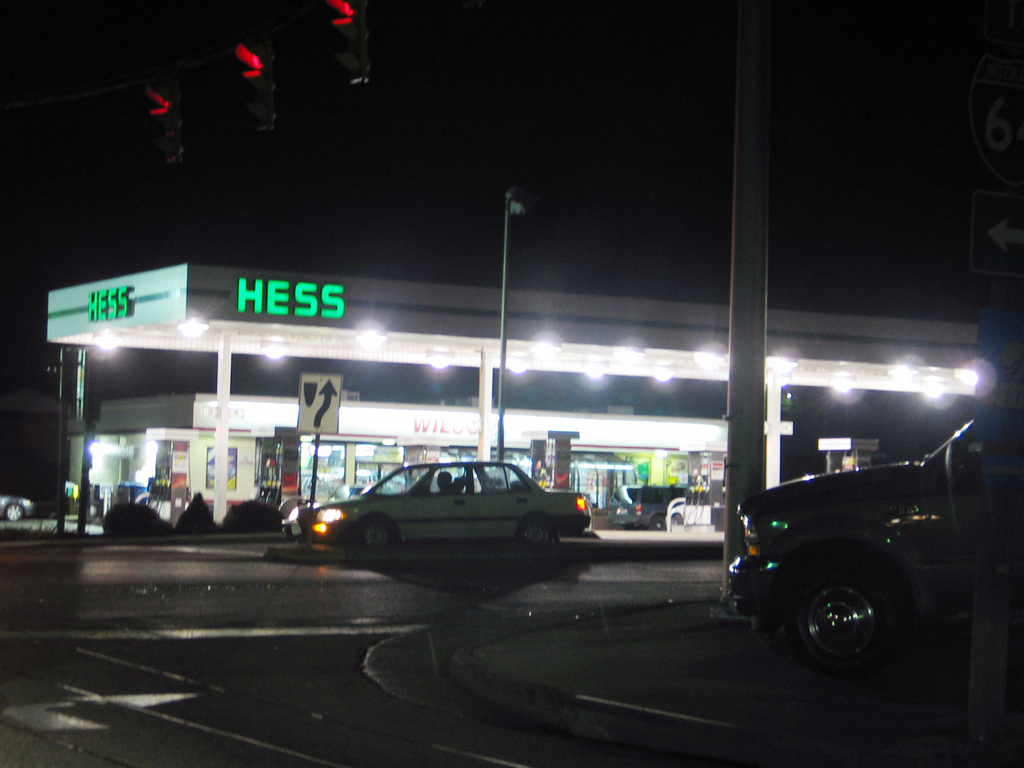mobil: (286, 460, 609, 558)
